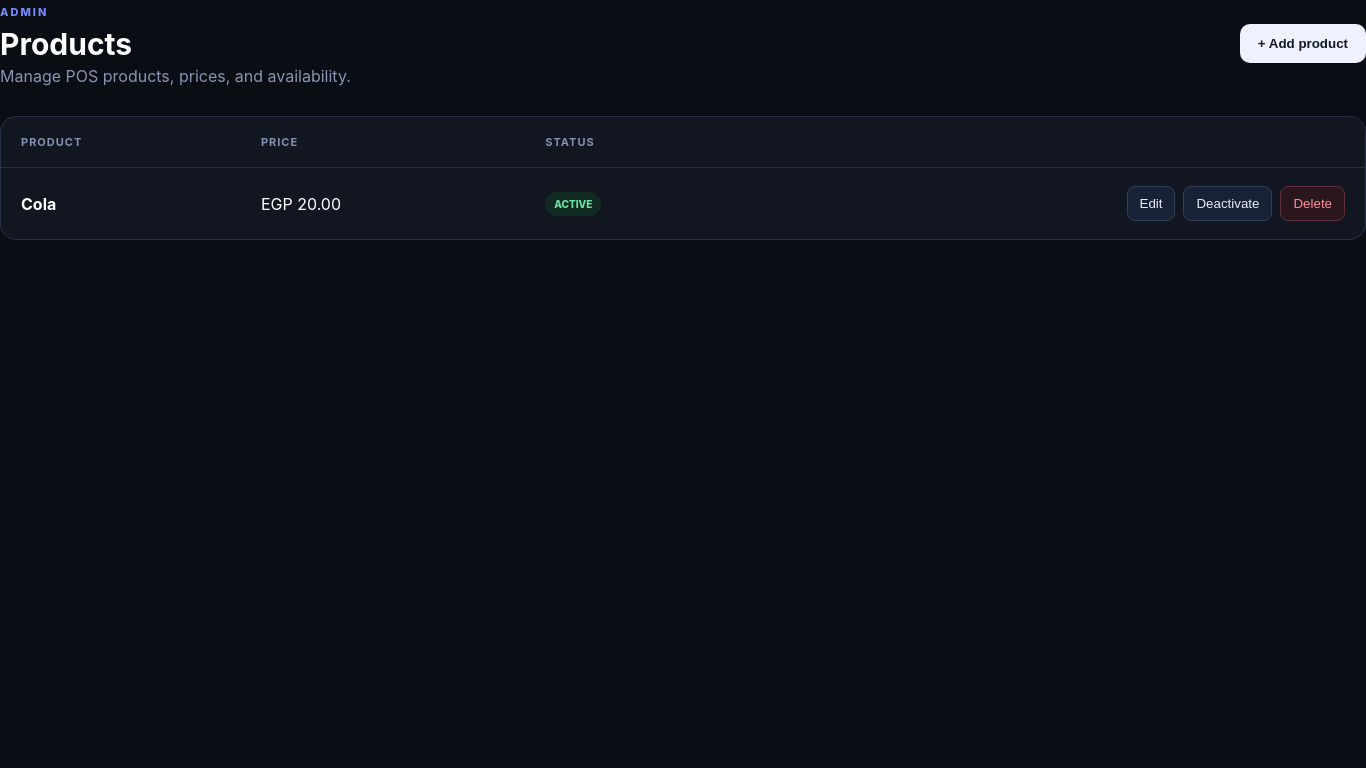
Test: ProductsPage › removes the product from the list after a successful delete
Check: the text "Cola" is shown, box [21,194,56,214]
Step 1. Click the button "Delete" → (1313, 204), box [1280,186,1345,221]
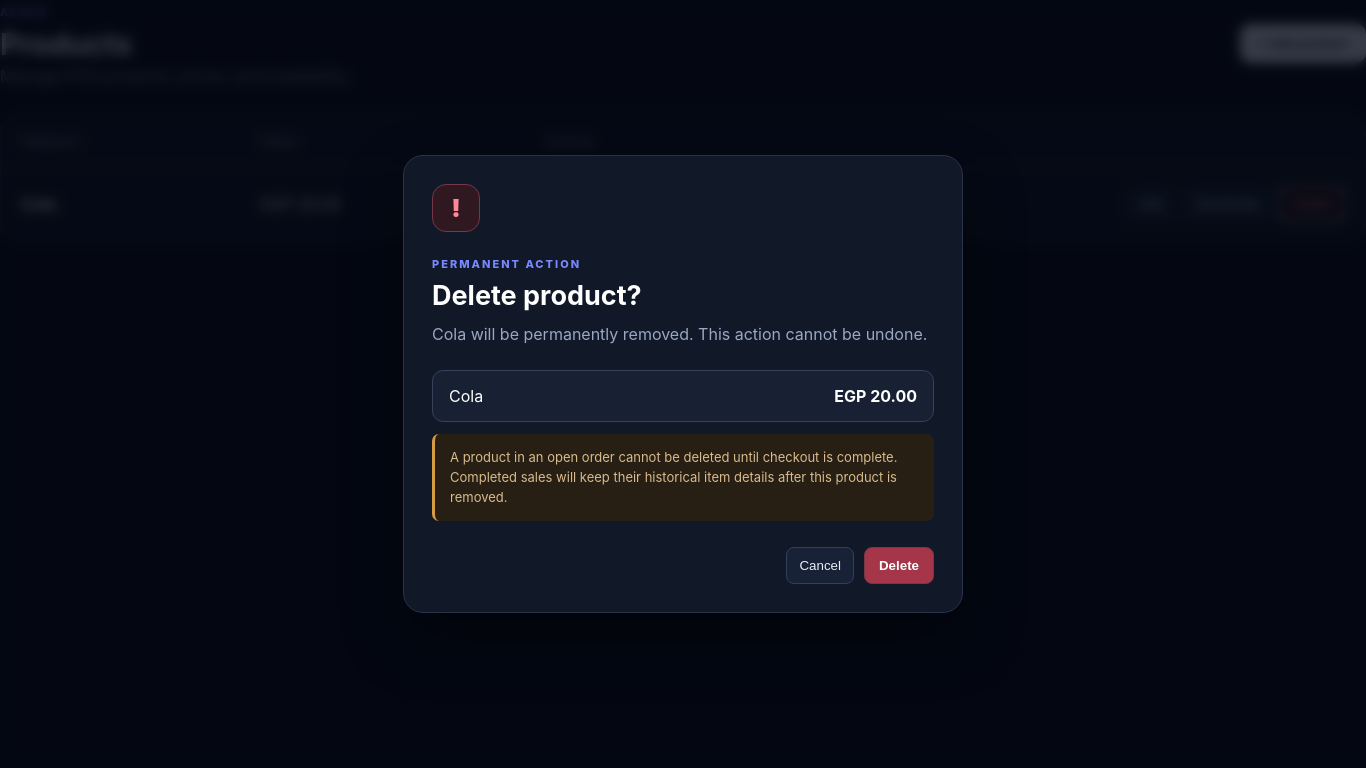
Step 2. Click the button "Delete" → (899, 565), box [864,546,934,584]
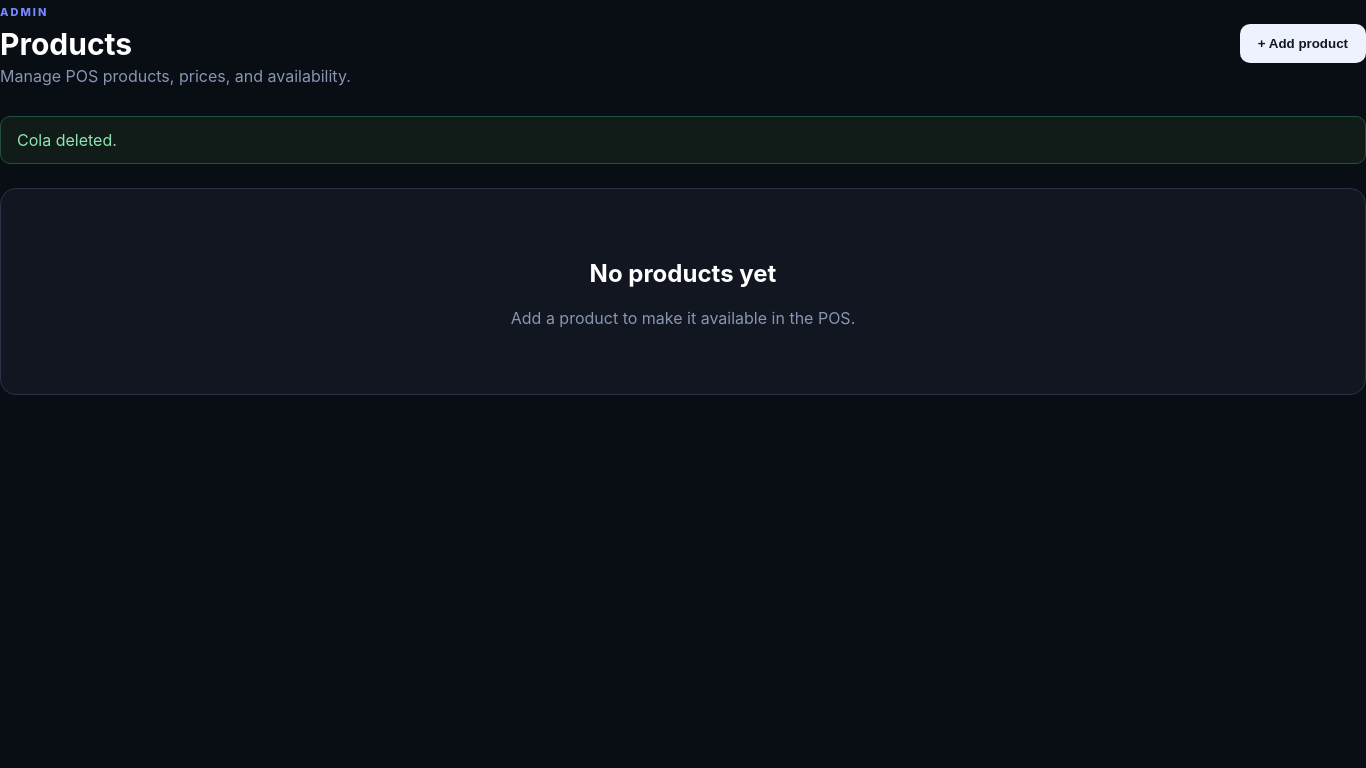
Check: the text "Cola deleted." is shown, box [0,116,1365,164]
